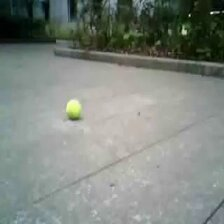tennis: (66, 100, 82, 119)
